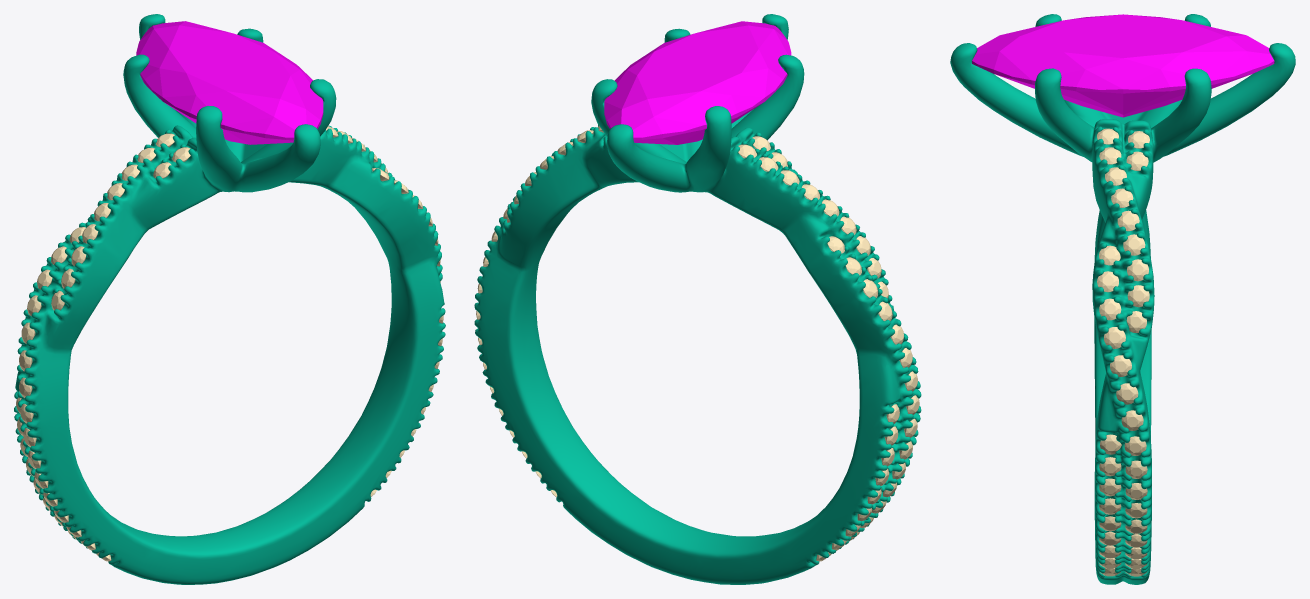
File: BE1M55D_MQ_200ct_RENDER.glb
3 renders of one model, left to right at view 1: azimuth 30°, elevation 25°; view 2: azimuth 150°, elevation 25°; view 3: azimuth 270°, elevation 25°, orthographic. The views are drawn at different scales.
Visible parts, largest first — view 1: Metal 01, CS_Diamond_Marquise; view 2: Metal 01, CS_Diamond_Marquise; view 3: Metal 01, CS_Diamond_Marquise.
Boxes of the visible parts, x1,y1,x2,y2 form: Metal 01: [14, 14, 445, 584]; CS_Diamond_Marquise: [136, 21, 323, 144]; Metal 01: [474, 14, 921, 584]; CS_Diamond_Marquise: [604, 21, 791, 144]; Metal 01: [950, 14, 1295, 584]; CS_Diamond_Marquise: [972, 14, 1274, 117].
Size of the model in its own units: 20.69 by 23.66 by 14.1.
